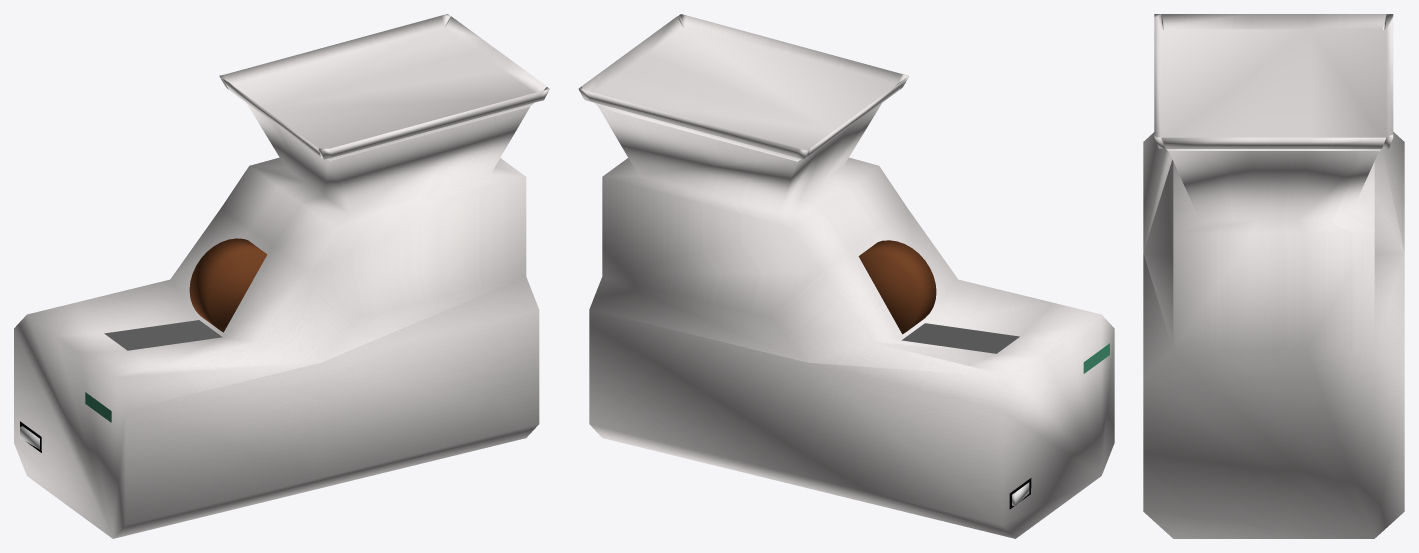
Rendered from FACETADORA  MANUAL (JUNTO).fbx.
3 views of the same model, side by side, from view 1: azimuth 30°, elevation 25°; view 2: azimuth 150°, elevation 25°; view 3: azimuth 270°, elevation 25° (orthographic). The views are drawn at different scales.
Parts seen in each view (by area): view 1: Cube; view 2: Cube; view 3: Cube.
Part boxes in pixels (bbox=[...]): Cube: bbox=[14, 14, 549, 538]; Cube: bbox=[578, 14, 1114, 538]; Cube: bbox=[1143, 14, 1404, 538].
Size of the model in its own units: 4.48 by 3.47 by 2.
6 materials, 1 textured.
